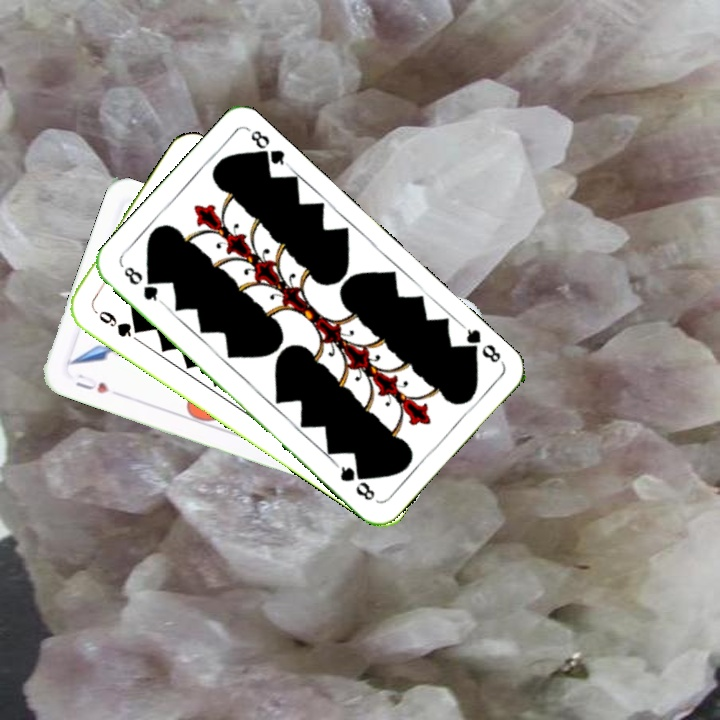G8: (458, 321, 505, 366), (119, 262, 165, 306)
G9: (89, 304, 144, 340)
HU: (71, 370, 112, 396)
